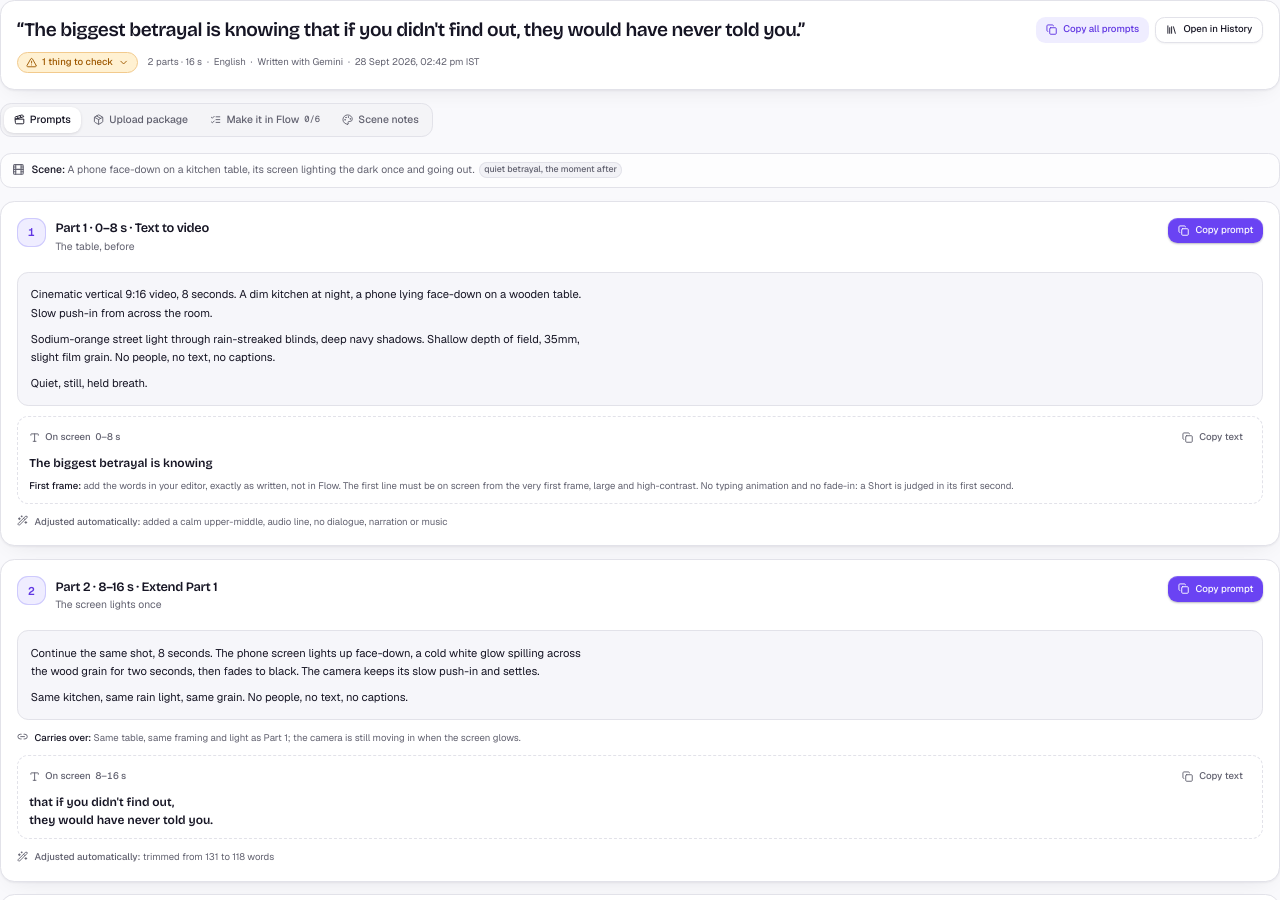
Test case: Prompts tab › shows the planner's fixes as a quiet line on their part, never as a warning
Check: the element with test id "shot-adjustments" shows "Adjusted automatically: added a calm upper-middle, audio line, no dialogue, narration or music", box [17,515,448,528]
Check: the element with test id "shot-adjustments" reads "Adjusted automatically: trimmed from 131 to 118 words", box [17,850,274,863]
// Only the real warning is counted and listed.
Click the button "1 thing to check" at (78, 63), box [17,52,138,73]
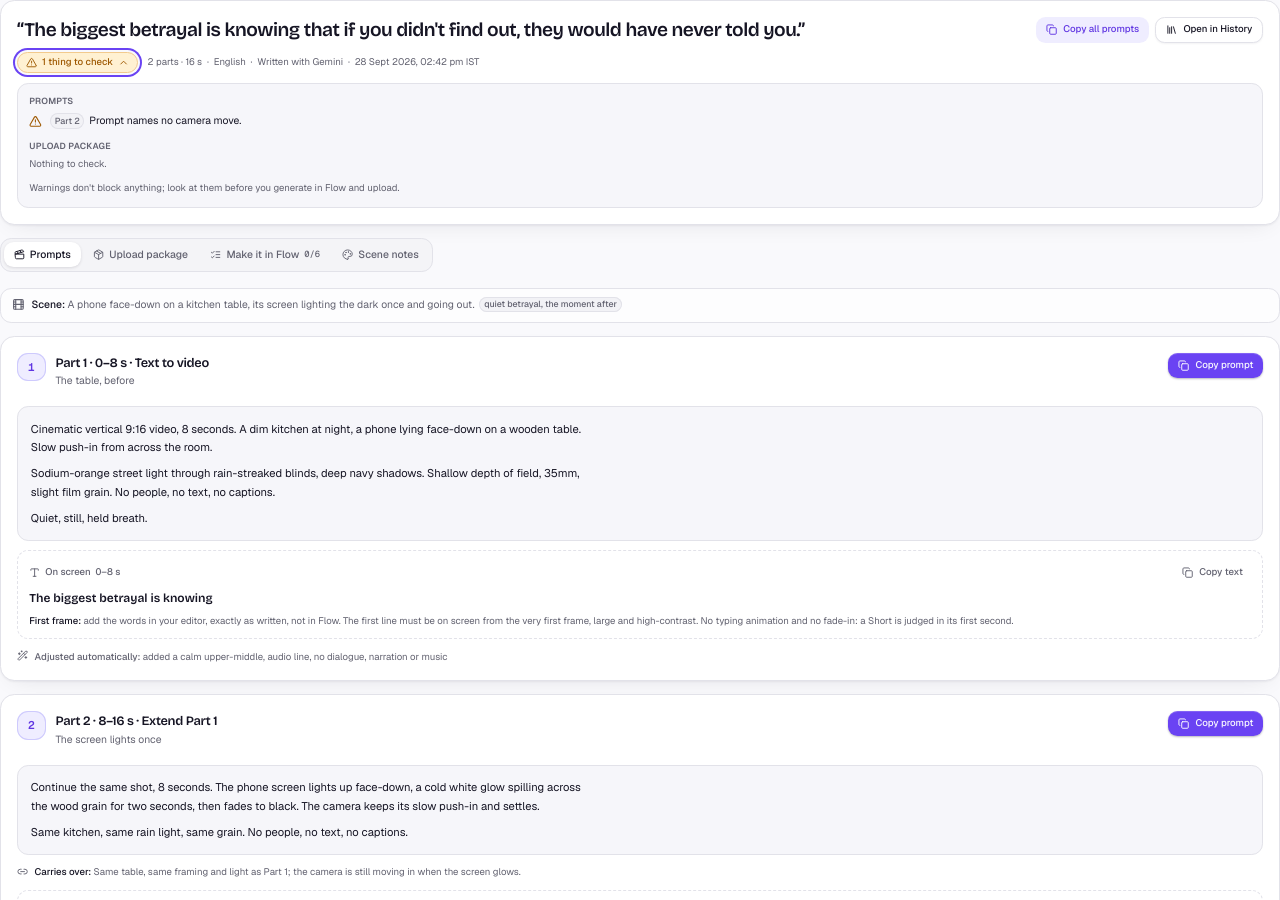
Check: the list named "Things to check" shows "Part 2", box [29,113,241,129]
Check: the list named "Things to check" shows "Prompt names no camera move.", box [89,114,241,128]
